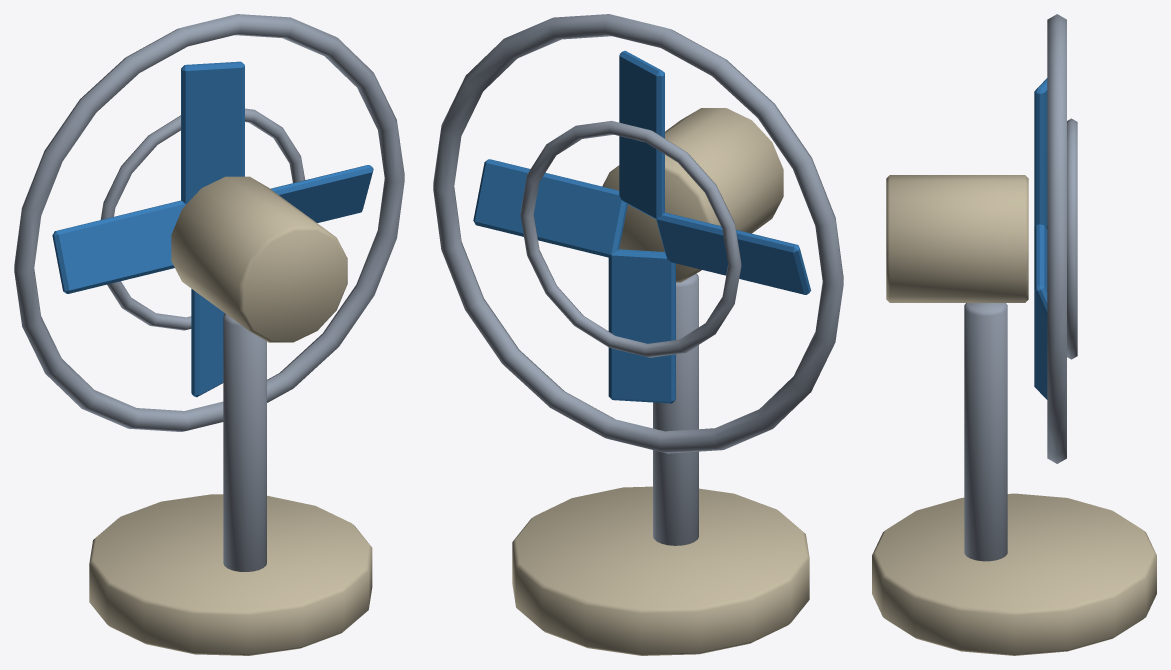
The model's file is prop_electric_fan.obj.
The picture shows the model from 3 angles, left to right: view 1: azimuth 30°, elevation 25°; view 2: azimuth 150°, elevation 25°; view 3: azimuth 270°, elevation 25°; orthographic projection. The views are drawn at different scales.
Visible parts, largest first — view 1: Base, CageOuter, Motor, Neck, Blade_2, Blade_1, CageInner, Blade_0, Blade_3; view 2: Base, CageOuter, Motor, CageInner, Blade_3, Blade_0, Neck, Blade_2, Blade_1; view 3: Base, Motor, Neck, CageOuter, CageInner, Blade_1, Blade_3, Blade_0.
Boxes of the visible parts, x1,y1,x2,y2 form: Base: (89, 494, 372, 655); CageOuter: (14, 14, 404, 431); Motor: (171, 176, 347, 342); Neck: (223, 313, 266, 571); Blade_2: (52, 200, 185, 293); Blade_1: (181, 61, 244, 204); CageInner: (100, 108, 305, 330); Blade_0: (270, 165, 373, 222); Blade_3: (191, 289, 224, 397); Base: (512, 486, 809, 655); CageOuter: (433, 14, 843, 453); Motor: (602, 108, 783, 282); CageInner: (520, 120, 741, 357); Blade_3: (608, 249, 675, 403); Blade_0: (473, 159, 627, 257); Neck: (653, 273, 698, 545); Blade_2: (656, 212, 810, 294); Blade_1: (619, 50, 664, 218); Base: (872, 493, 1156, 655); Motor: (886, 175, 1028, 302); Neck: (964, 303, 1007, 561); CageOuter: (1047, 14, 1066, 463); CageInner: (1067, 118, 1077, 359); Blade_1: (1034, 78, 1047, 226); Blade_3: (1034, 291, 1047, 399); Blade_0: (1034, 224, 1047, 318).
Size of the model in its own units: 0.632 by 0.8678 by 0.4.
